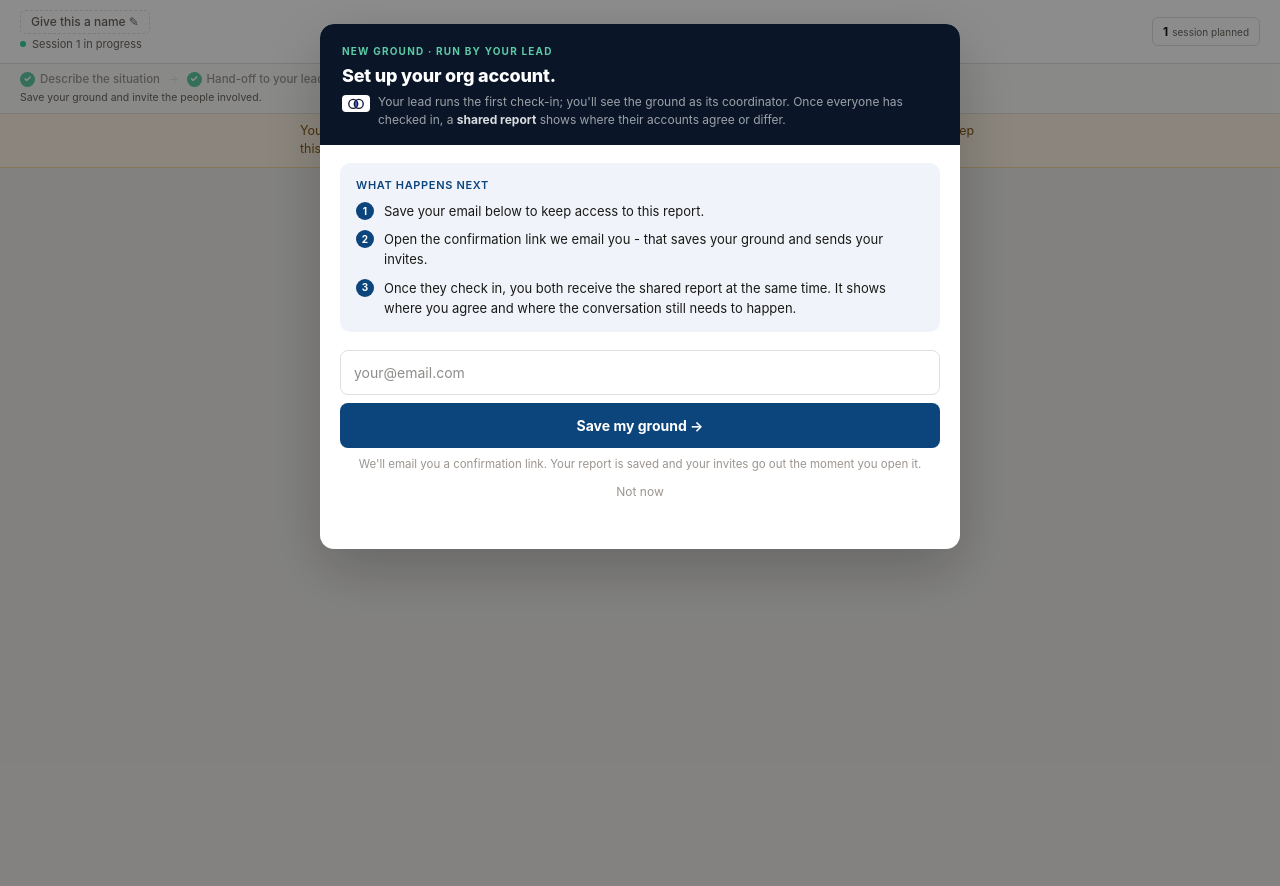
it: the cadence nobody picked › stops saying so once the person picks one
Type "sahar@x.test" into the field with placeholder "your@email.com" at (640, 372), box left=340, top=350, right=940, bottom=395
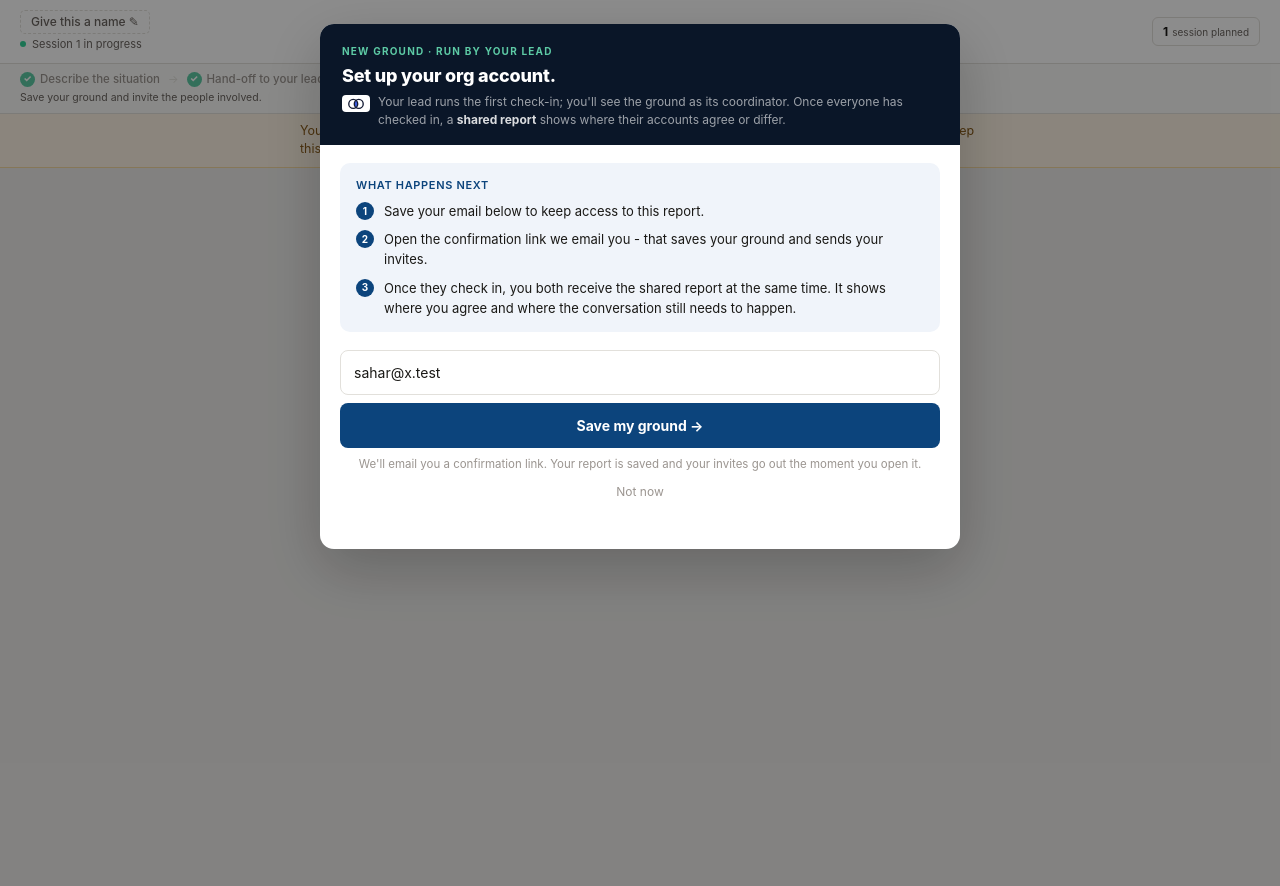
Click the button "Save my ground →" at (640, 425), box left=340, top=403, right=940, bottom=448
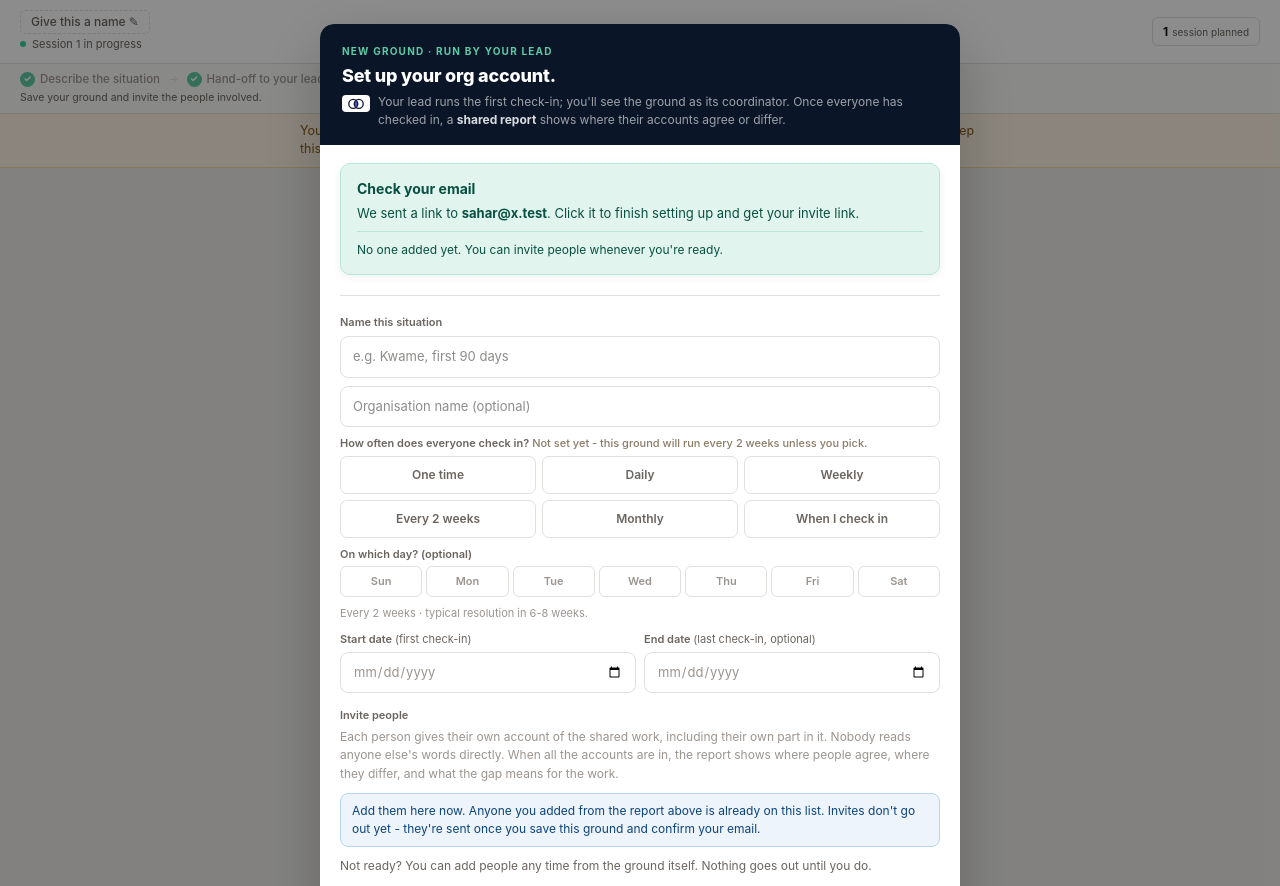
Expected: the text "Not set yet" is shown, left=529, top=436, right=867, bottom=450
Click the button "Weekly" at (842, 475), box left=744, top=456, right=940, bottom=494
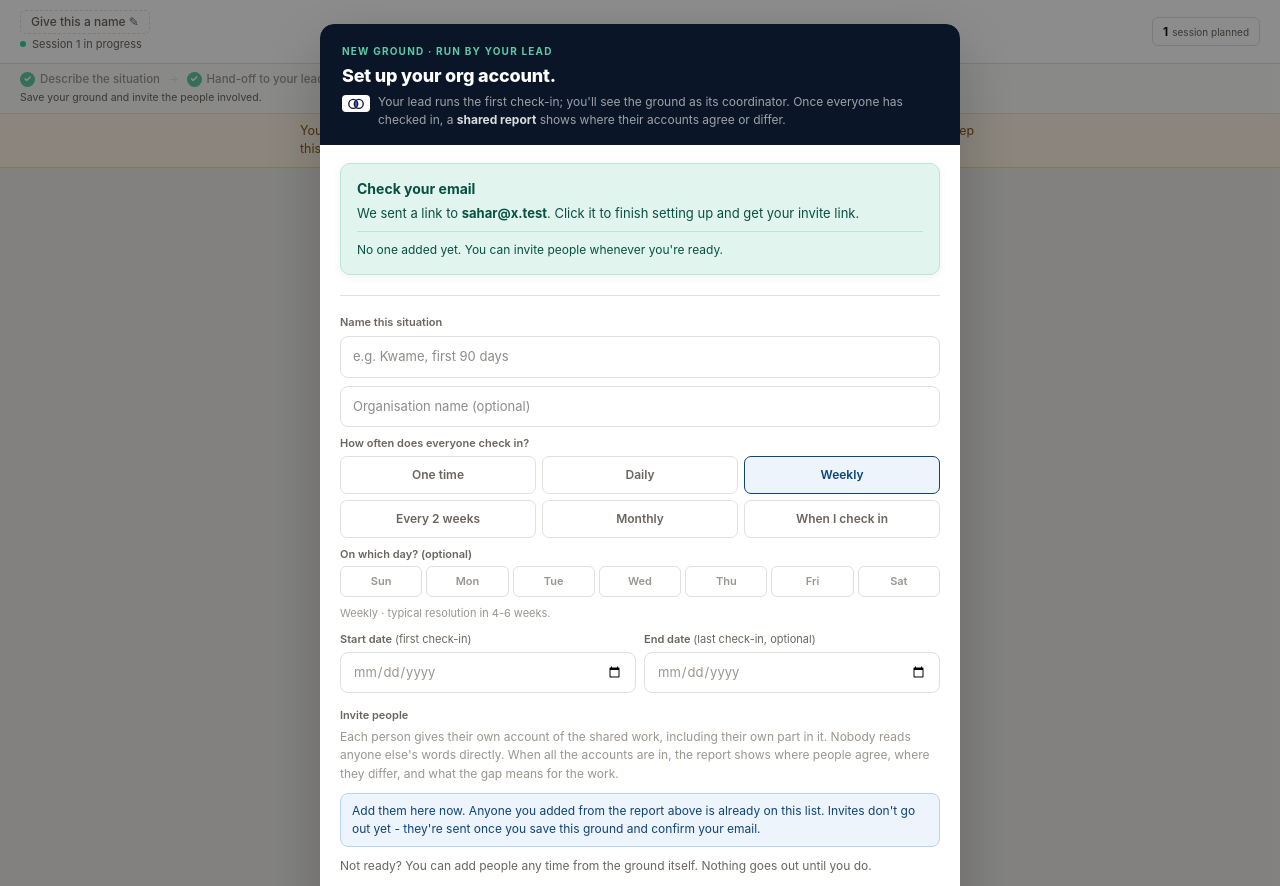
Expected: the text "Not set yet" is gone
